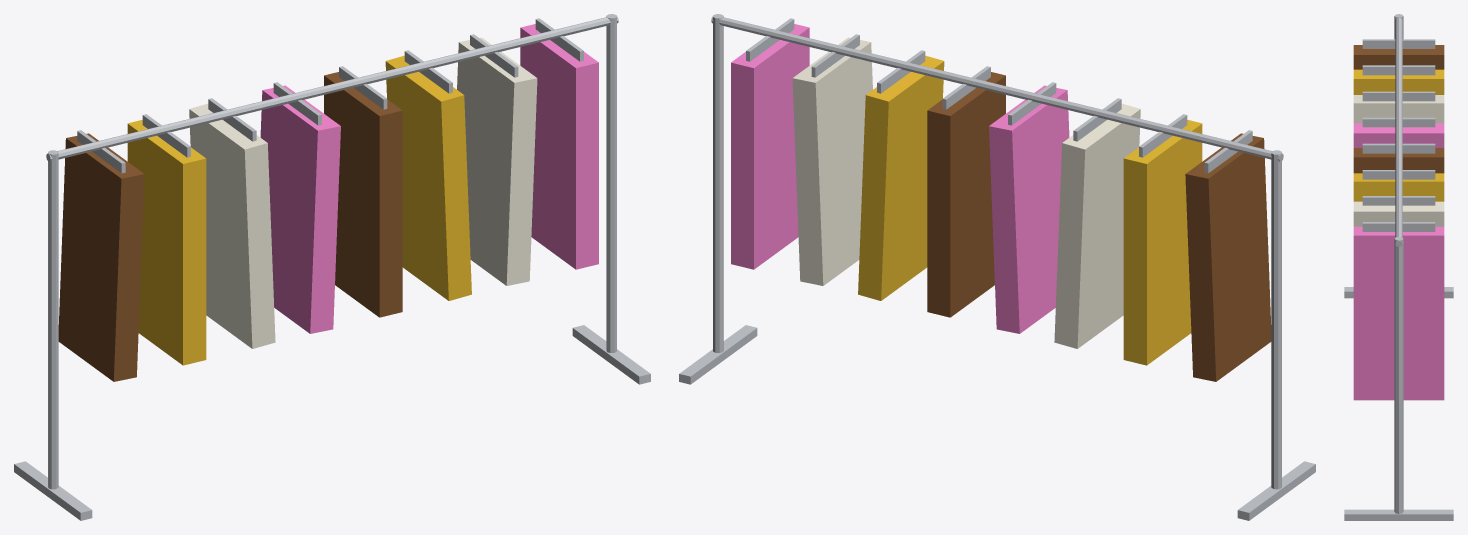
The model's file is rack_animals.glb.
3 views of the same model, side by side, from view 1: azimuth 30°, elevation 25°; view 2: azimuth 150°, elevation 25°; view 3: azimuth 270°, elevation 25° (orthographic). The views are drawn at different scales.
Visible parts, largest first — view 1: costume, post_rack_chrome, bar_rack_chrome, hanger_rack_chrome, foot_rack_chrome; view 2: costume, post_rack_chrome, bar_rack_chrome, hanger_rack_chrome, foot_rack_chrome; view 3: costume, hanger_rack_chrome, post_rack_chrome, bar_rack_chrome, foot_rack_chrome.
Boxes of the visible parts, x1,y1,x2,y2 form: costume: (58, 24, 598, 381); post_rack_chrome: (48, 14, 616, 489); bar_rack_chrome: (46, 15, 618, 161); hanger_rack_chrome: (77, 18, 583, 173); foot_rack_chrome: (14, 325, 650, 520); costume: (731, 24, 1271, 381); post_rack_chrome: (713, 14, 1281, 489); bar_rack_chrome: (711, 15, 1283, 161); hanger_rack_chrome: (746, 18, 1252, 173); foot_rack_chrome: (679, 325, 1315, 520); costume: (1353, 45, 1444, 400); hanger_rack_chrome: (1362, 39, 1435, 231); post_rack_chrome: (1394, 14, 1403, 513); bar_rack_chrome: (1395, 18, 1402, 246); foot_rack_chrome: (1344, 287, 1453, 520).
Size of the model in its own units: 2.96 by 1.7 by 0.6.
